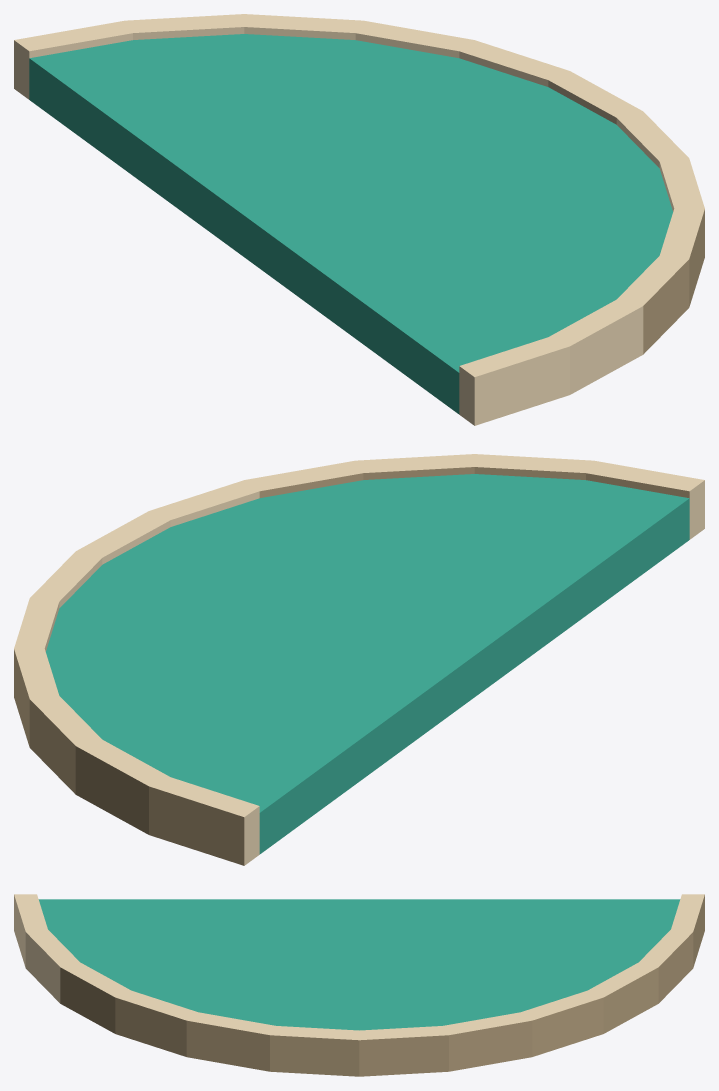
Rendered from pie_slice_2.glb.
3 renders of one model, top to bottom at view 1: azimuth 30°, elevation 25°; view 2: azimuth 150°, elevation 25°; view 3: azimuth 270°, elevation 25°, orthographic. The views are drawn at different scales.
Parts seen in each view (by area): view 1: slice; view 2: slice; view 3: slice.
Boxes of the visible parts, x1,y1,x2,y2 form: slice: (14, 14, 704, 425); slice: (14, 454, 704, 865); slice: (14, 894, 704, 1076).
Bounding box in the file's own units: 0.06 × 0.007 × 0.12.
